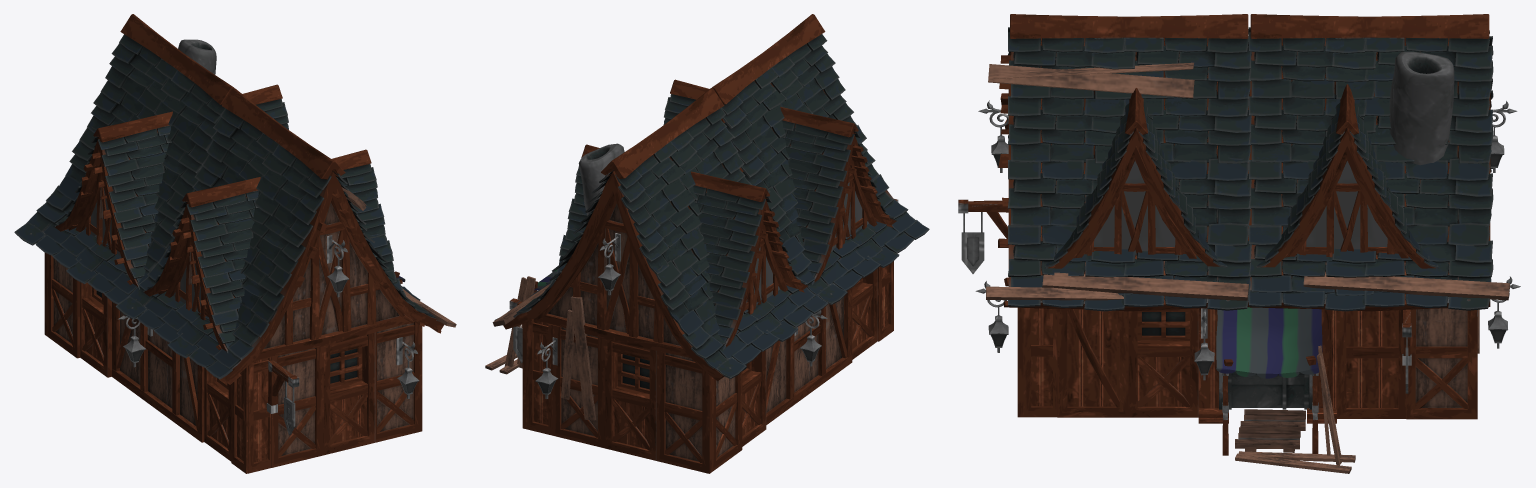
Rendered from Building_2.fbx.
The picture shows the model from 3 angles, left to right: view 1: azimuth 30°, elevation 25°; view 2: azimuth 150°, elevation 25°; view 3: azimuth 270°, elevation 25°; orthographic projection. The views are drawn at different scales.
Parts seen in each view (by area): view 1: Building_2_LOD0; view 2: Building_2_LOD0; view 3: Building_2_LOD0.
Boxes of the visible parts, box(x1,y1,x2,y2) form: Building_2_LOD0: box(14, 14, 456, 473); Building_2_LOD0: box(485, 14, 929, 473); Building_2_LOD0: box(958, 14, 1520, 473).
Size of what is drawn, in the model's own units: 1329 by 1239 by 1791.
